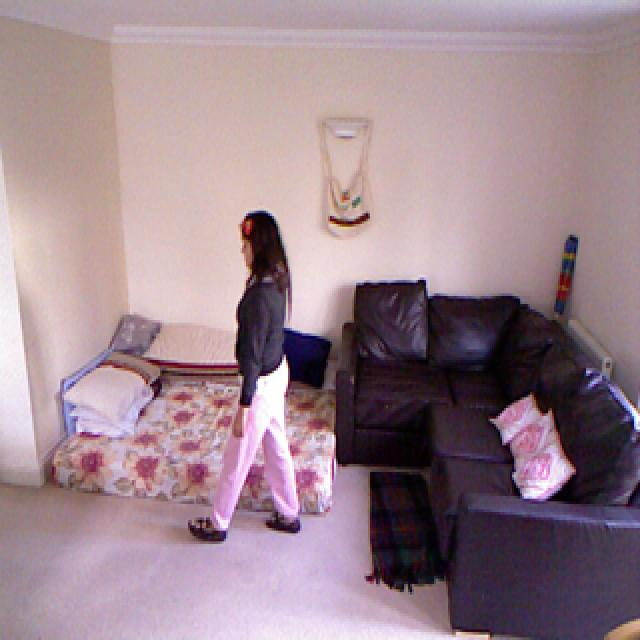standing: (187, 212, 303, 546)
